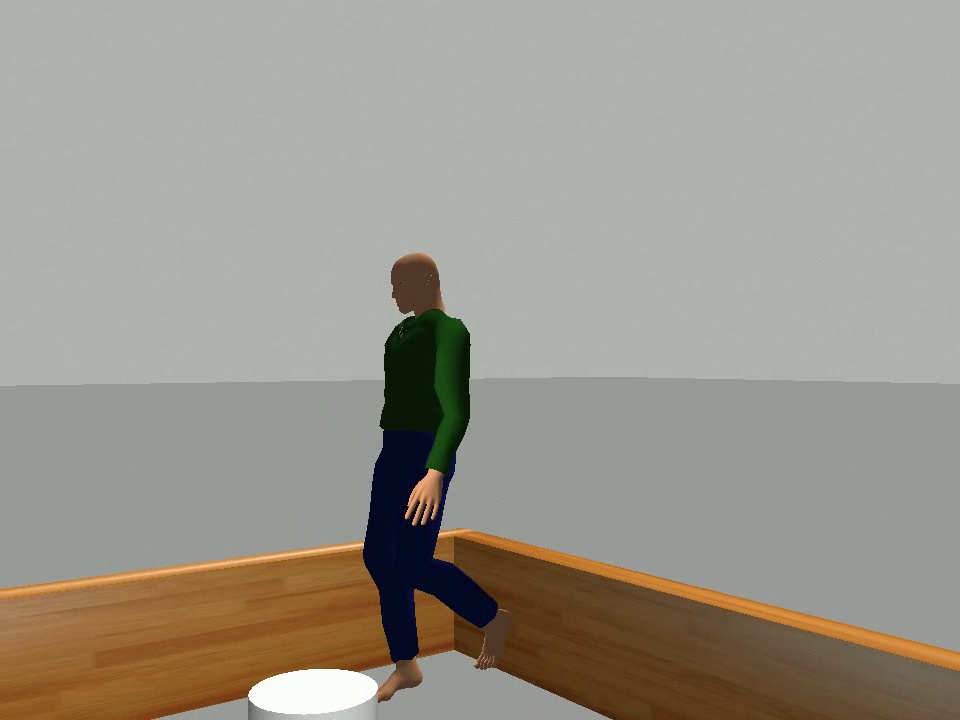person: (360, 250, 518, 701)
